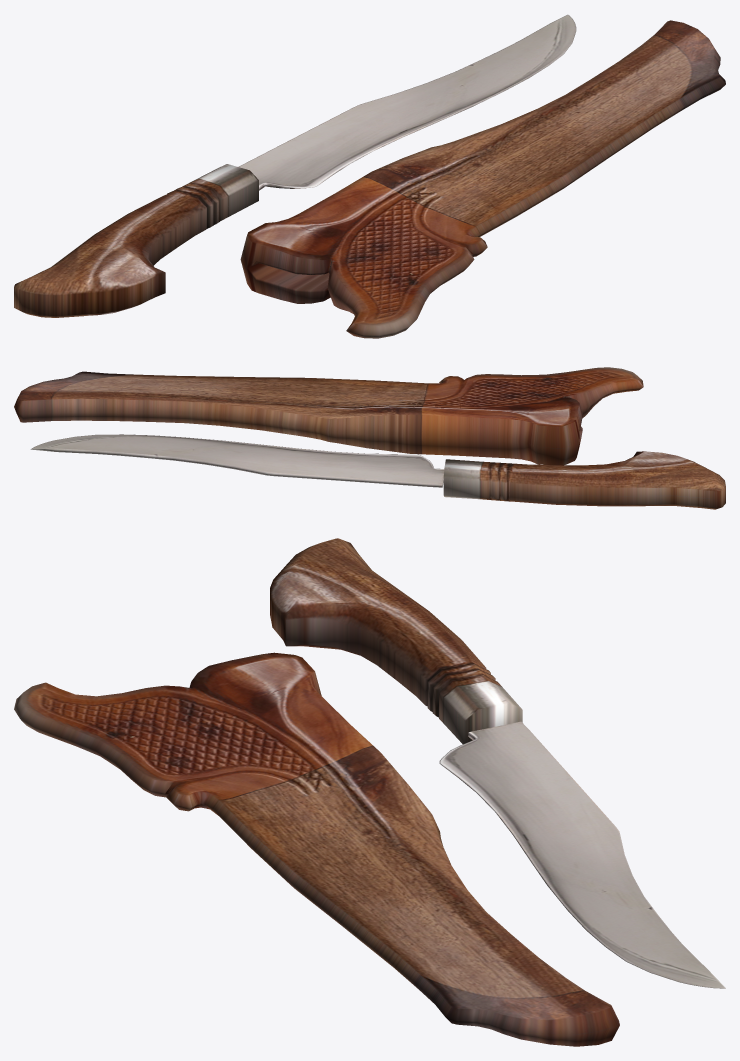
File: 5_Golok Sembelik.fbx
3 views of the same model, one above another, from view 1: azimuth 30°, elevation 25°; view 2: azimuth 150°, elevation 25°; view 3: azimuth 270°, elevation 25° (orthographic). The views are drawn at different scales.
Parts seen in each view (by area): view 1: Plane; view 2: Plane; view 3: Plane.
Boxes of the visible parts, x1,y1,x2,y2 form: Plane: (14, 14, 725, 338); Plane: (14, 367, 725, 509); Plane: (14, 538, 725, 1046).
Bounding box in the file's own units: 290 × 17.13 × 181.
Materials: 1 (1 with a texture image).
